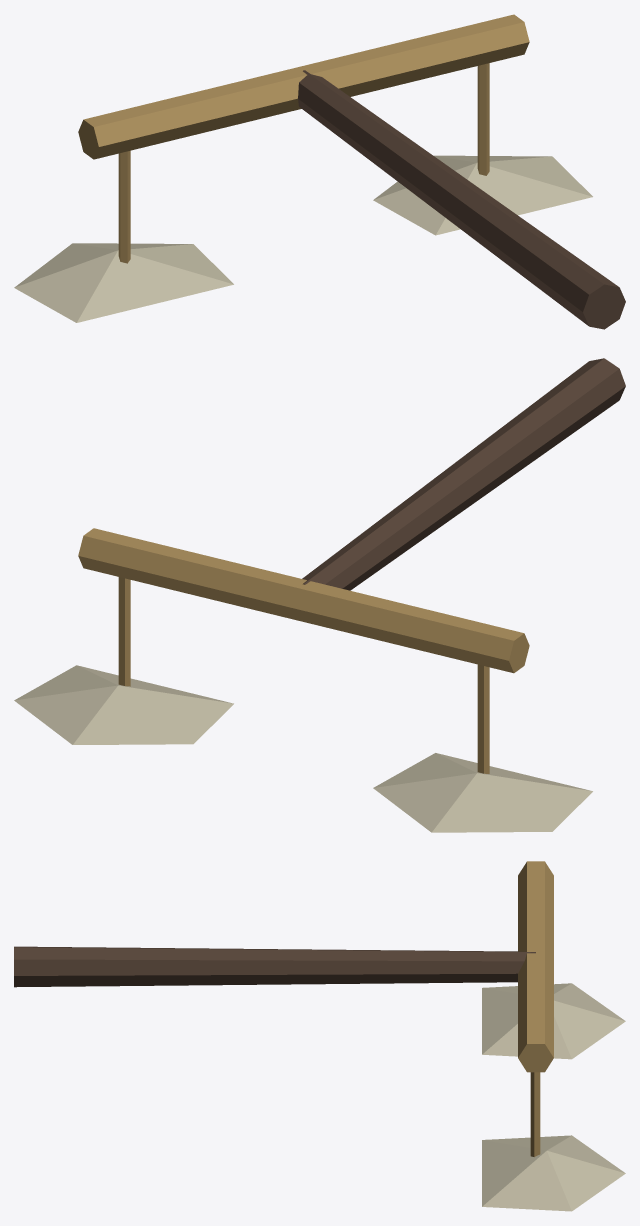
File: debt_scale.glb
3 renders of one model, top to bottom at view 1: azimuth 30°, elevation 25°; view 2: azimuth 150°, elevation 25°; view 3: azimuth 270°, elevation 25°, orthographic. The views are drawn at different scales.
Visible parts, largest first — view 1: BladeMesh; view 2: BladeMesh; view 3: BladeMesh.
Boxes of the visible parts, <box> form: BladeMesh: <box>14,14,625,329</box>; BladeMesh: <box>14,358,625,832</box>; BladeMesh: <box>14,861,625,1211</box>.
Bounding box in the file's own units: 1.5 × 0.53 × 1.7.
